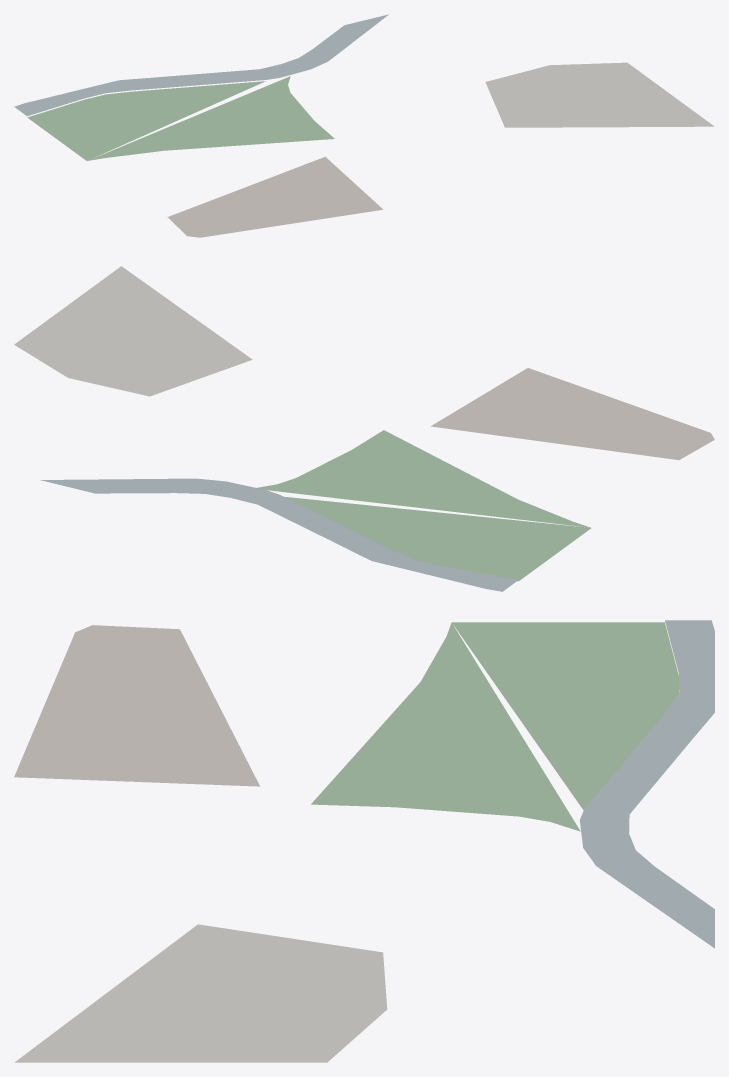
Rendered from 127_120_mid.glb.
The picture shows the model from 3 angles, top to bottom: view 1: azimuth 30°, elevation 25°; view 2: azimuth 150°, elevation 25°; view 3: azimuth 270°, elevation 25°; orthographic projection. The views are drawn at different scales.
Size of the model in its own units: 500 by 2.55 by 336.
